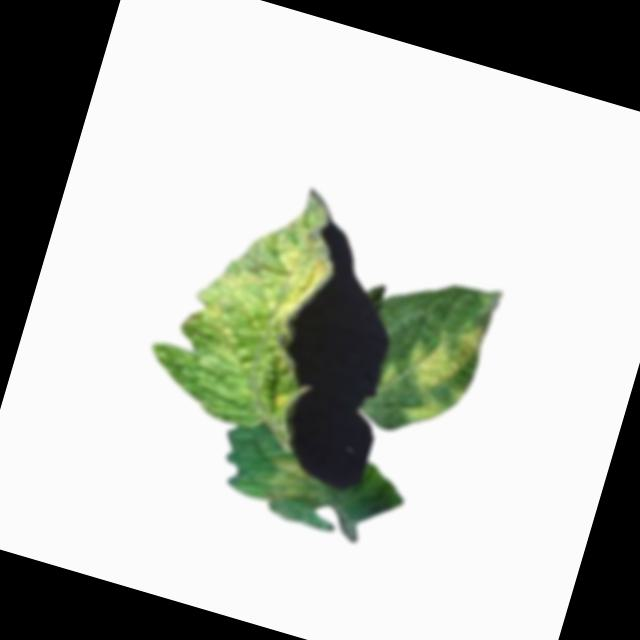Leaf_Mold: (189, 206, 343, 363), (392, 308, 490, 437), (263, 454, 328, 512)
